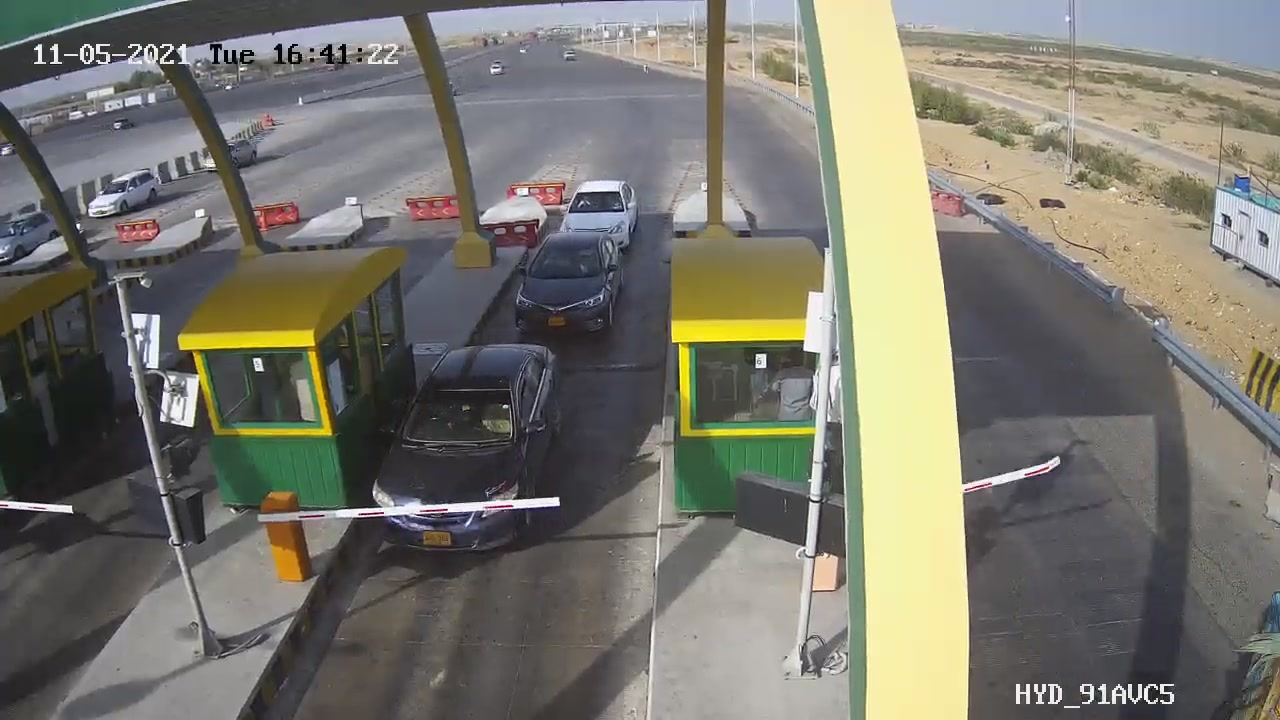F1: (354, 331, 591, 569), (496, 219, 641, 346), (548, 169, 653, 259)
